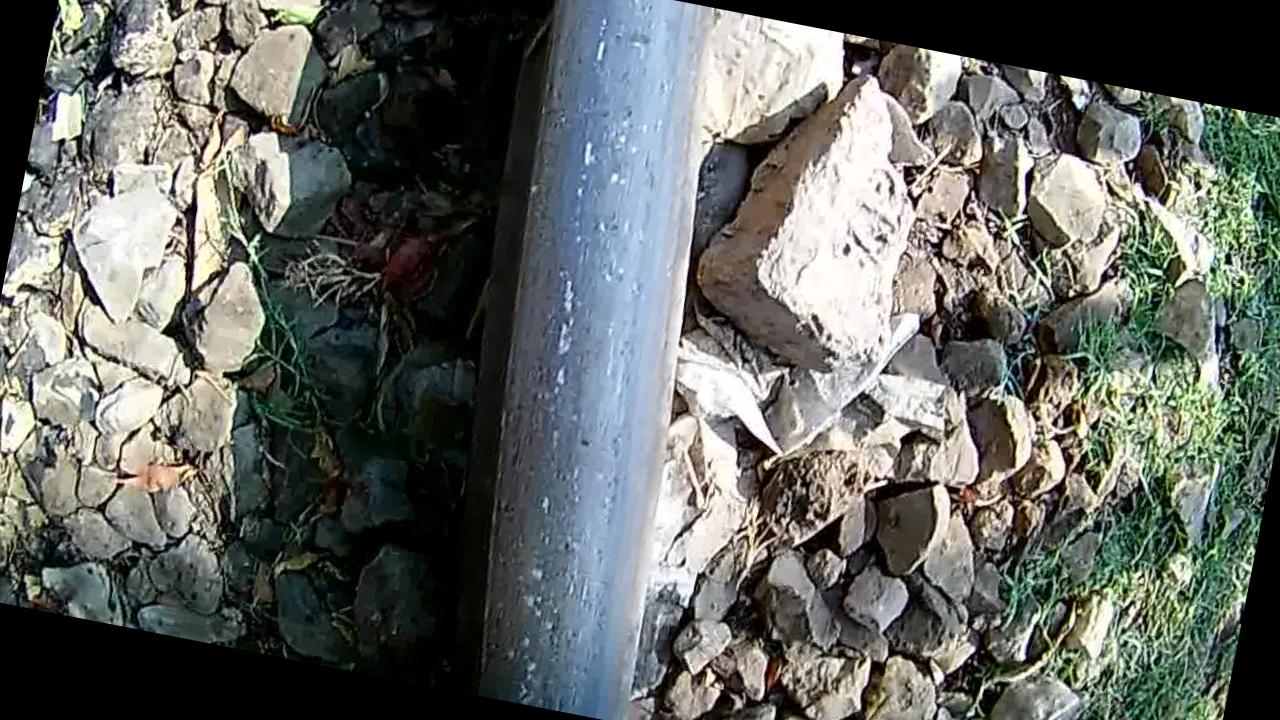clip_missing: (424, 0, 759, 720)
